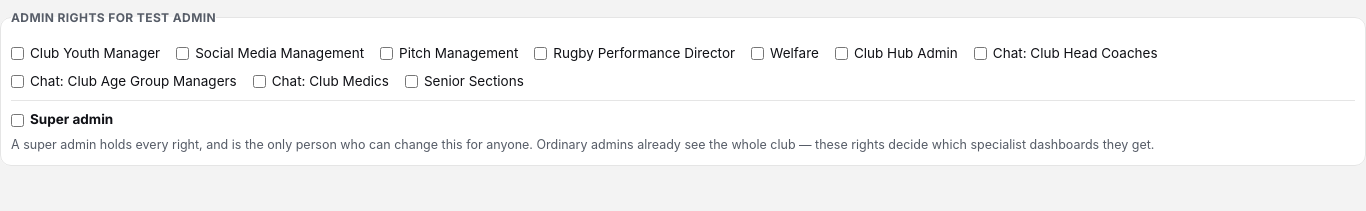
Test case: assigning admin rights › ⚠️ does not report a change upward when the write failed
Click the checkbox labelled "Club Youth Manager".
click(18, 54)  # box [11,48,24,60]
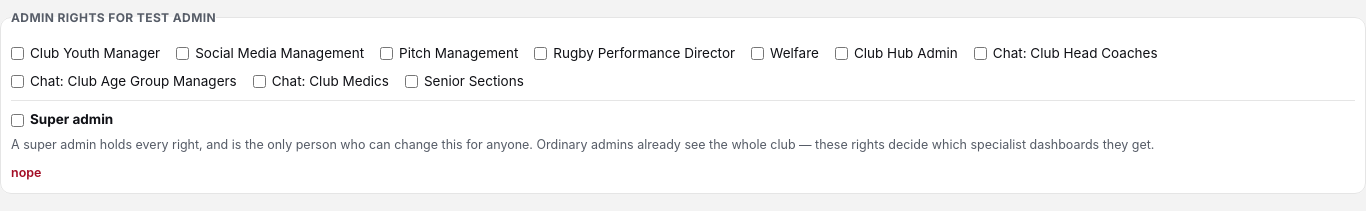
Expected: the message "nope" is shown, [11,165,42,180]
